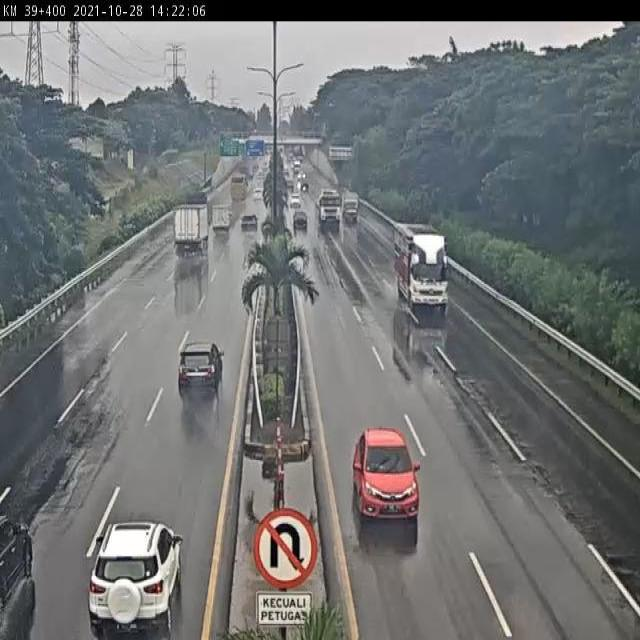car: (90, 520, 181, 633), (351, 424, 421, 523), (177, 344, 222, 393), (240, 209, 260, 236), (290, 204, 309, 229)
truck-l-: (391, 220, 452, 311), (170, 199, 211, 257)
truck-s-: (211, 206, 232, 238)
truck-xl-: (315, 185, 342, 231)
